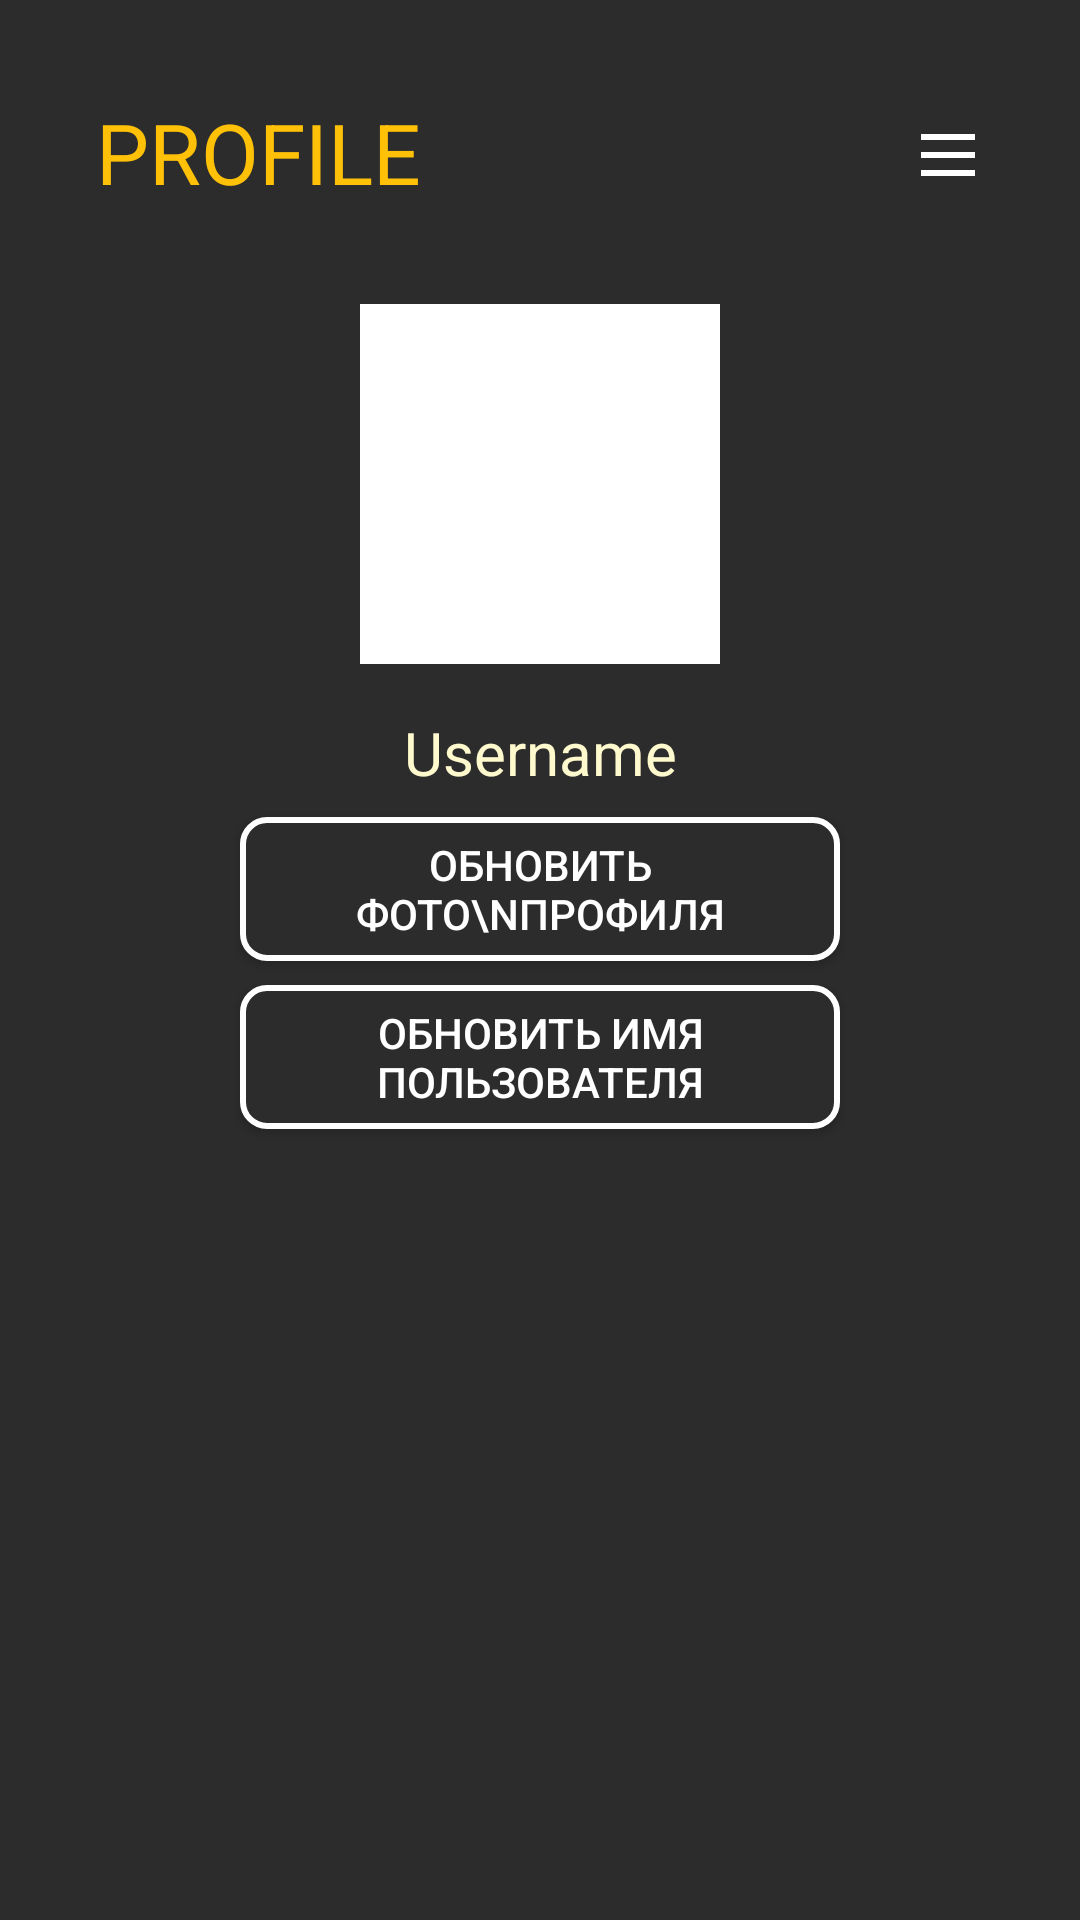

Locate icon controls on the screen. Image size 1080*1920, boxes as (x1, y1, x2, y2).
Открыть навигационное меню: (921, 134, 975, 176)
